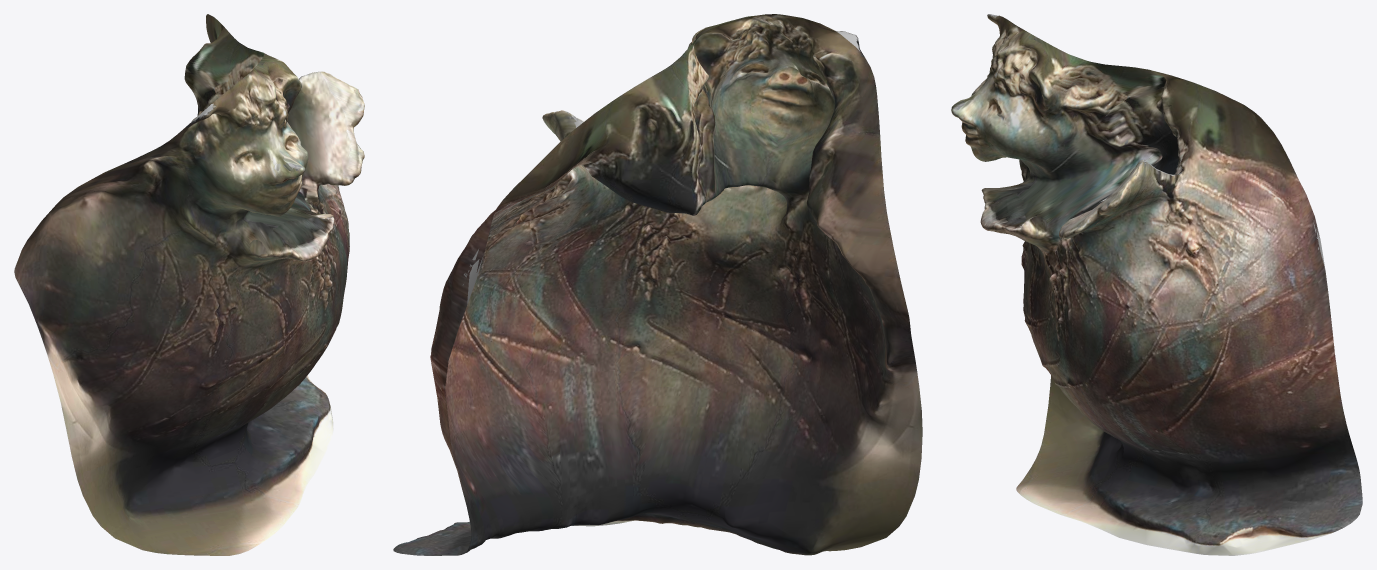
File: knolletje.glb
3 views of the same model, side by side, from view 1: azimuth 30°, elevation 25°; view 2: azimuth 150°, elevation 25°; view 3: azimuth 270°, elevation 25° (orthographic). The views are drawn at different scales.
Parts seen in each view (by area): view 1: knolletje; view 2: knolletje; view 3: knolletje.
Boxes of the visible parts, <box> form: knolletje: <box>14,14,364,555</box>; knolletje: <box>393,14,922,555</box>; knolletje: <box>951,14,1362,555</box>.
Size of the model in its own units: 14.09 by 17.25 by 13.79.
Materials: 2 (1 with a texture image).
